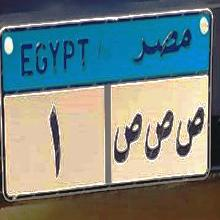1: (48, 100, 66, 178)
saad: (174, 106, 206, 158), (113, 113, 141, 169), (145, 110, 173, 163)
